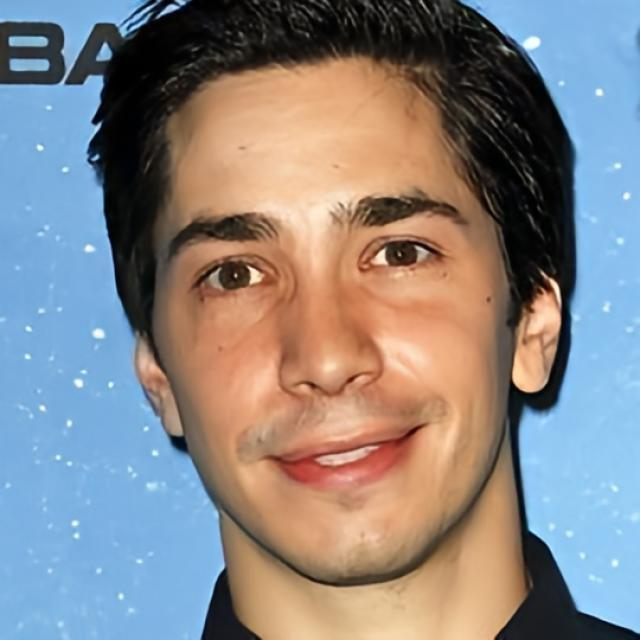content: (156, 60, 516, 578)
